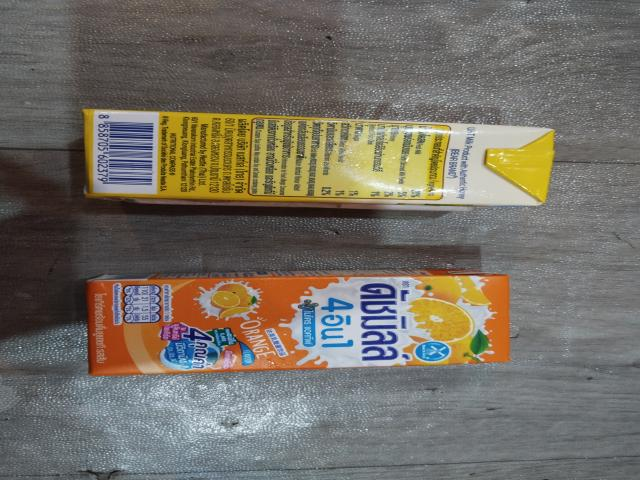drink_box: (70, 102, 560, 216), (74, 266, 542, 373)
